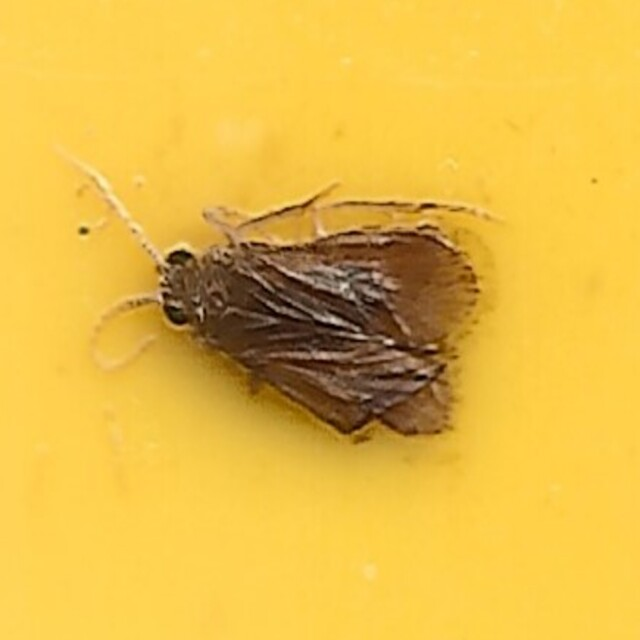Trichoptera: (147, 198, 493, 442)
